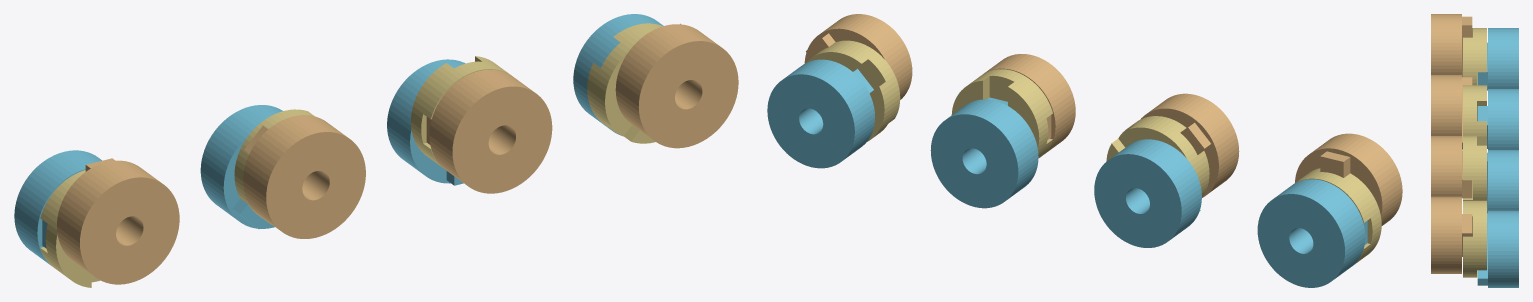
File: oldham_pose_demo.glb
3 views of the same model, side by side, from view 1: azimuth 30°, elevation 25°; view 2: azimuth 150°, elevation 25°; view 3: azimuth 270°, elevation 25° (orthographic). The views are drawn at different scales.
Parts seen in each view (by area): view 1: tongue_hub_b_phi45, tongue_hub_b_phi90, tongue_hub_b_phi0, tongue_hub_b_phi135, tongue_hub_a_phi45, tongue_hub_a_phi0, cross_slotted_disc_phi135, tongue_hub_a_phi90, cross_slotted_disc_phi90, tongue_hub_a_phi135, cross_slotted_disc_phi0, cross_slotted_disc_phi45; view 2: tongue_hub_a_phi135, tongue_hub_a_phi0, tongue_hub_a_phi90, tongue_hub_a_phi45, tongue_hub_b_phi0, tongue_hub_b_phi45, cross_slotted_disc_phi90, tongue_hub_b_phi135, cross_slotted_disc_phi135, tongue_hub_b_phi90, cross_slotted_disc_phi45, cross_slotted_disc_phi0; view 3: tongue_hub_b_phi135, tongue_hub_a_phi135, tongue_hub_b_phi0, tongue_hub_b_phi90, tongue_hub_a_phi45, tongue_hub_a_phi0, tongue_hub_b_phi45, tongue_hub_a_phi90, cross_slotted_disc_phi135, cross_slotted_disc_phi90, cross_slotted_disc_phi0, cross_slotted_disc_phi45.
Part boxes in pixels (<box>): tongue_hub_b_phi45: <box>243,115,365,238</box>; tongue_hub_b_phi90: <box>426,69,552,193</box>; tongue_hub_b_phi0: <box>57,158,179,284</box>; tongue_hub_b_phi135: <box>615,23,738,148</box>; tongue_hub_a_phi45: <box>200,105,282,229</box>; tongue_hub_a_phi0: <box>14,150,101,265</box>; cross_slotted_disc_phi135: <box>587,23,662,143</box>; tongue_hub_a_phi90: <box>387,59,465,185</box>; cross_slotted_disc_phi90: <box>410,56,510,167</box>; tongue_hub_a_phi135: <box>573,14,663,136</box>; cross_slotted_disc_phi0: <box>40,170,100,287</box>; cross_slotted_disc_phi45: <box>234,109,314,224</box>; tongue_hub_a_phi135: <box>767,59,874,168</box>; tongue_hub_a_phi0: <box>1257,179,1367,287</box>; tongue_hub_a_phi90: <box>930,97,1038,208</box>; tongue_hub_a_phi45: <box>1094,139,1201,247</box>; tongue_hub_b_phi0: <box>1295,133,1402,225</box>; tongue_hub_b_phi45: <box>1140,93,1239,197</box>; cross_slotted_disc_phi90: <box>951,69,1052,158</box>; tongue_hub_b_phi135: <box>804,14,912,99</box>; cross_slotted_disc_phi135: <box>806,40,900,141</box>; tongue_hub_b_phi90: <box>984,54,1075,154</box>; cross_slotted_disc_phi45: <box>1106,116,1209,196</box>; cross_slotted_disc_phi0: <box>1295,168,1381,264</box>; tongue_hub_b_phi135: <box>1431,196,1472,273</box>; tongue_hub_a_phi135: <box>1477,210,1518,287</box>; tongue_hub_b_phi0: <box>1431,14,1472,77</box>; tongue_hub_b_phi90: <box>1431,136,1472,198</box>; tongue_hub_a_phi45: <box>1477,89,1518,149</box>; tongue_hub_a_phi0: <box>1477,28,1518,90</box>; tongue_hub_b_phi45: <box>1431,75,1472,149</box>; tongue_hub_a_phi90: <box>1487,150,1518,213</box>; cross_slotted_disc_phi135: <box>1463,200,1486,277</box>; cross_slotted_disc_phi90: <box>1463,136,1486,200</box>; cross_slotted_disc_phi0: <box>1463,28,1486,85</box>; cross_slotted_disc_phi45: <box>1463,85,1486,135</box>.
Size of the model in its own units: 198 by 36 by 34.1.
